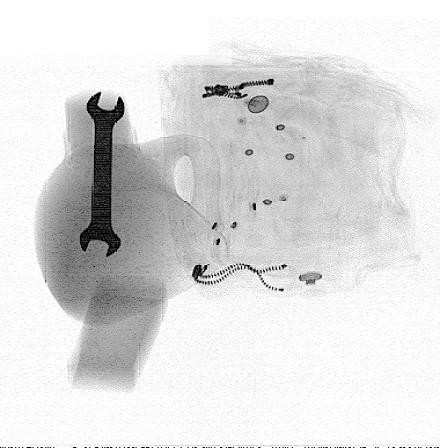Wrench: (77, 90, 127, 259)
